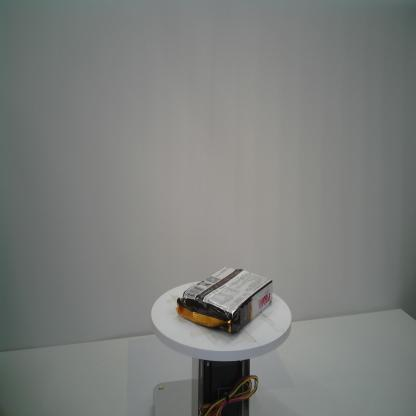Dessert: (176, 262, 274, 335)
